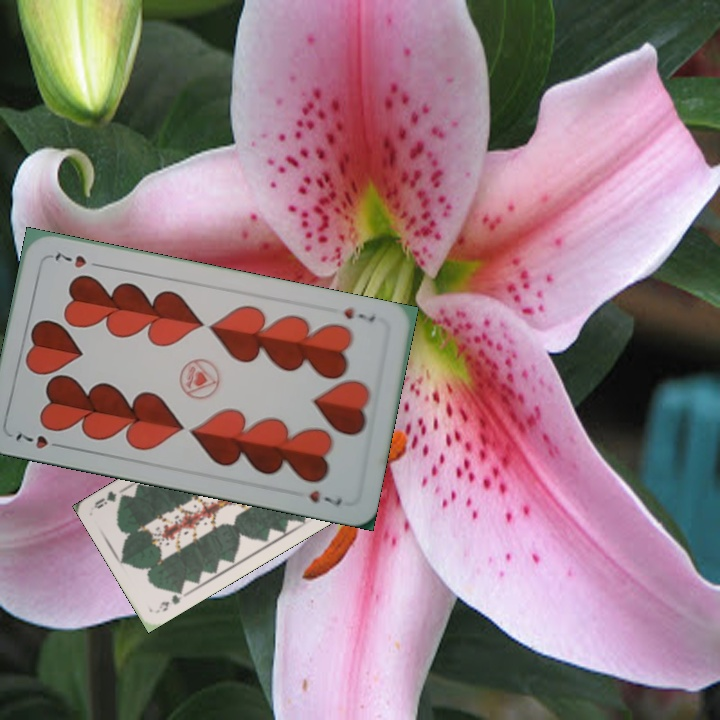G9: (153, 585, 190, 615)
H7: (11, 427, 68, 452), (339, 304, 378, 325)
